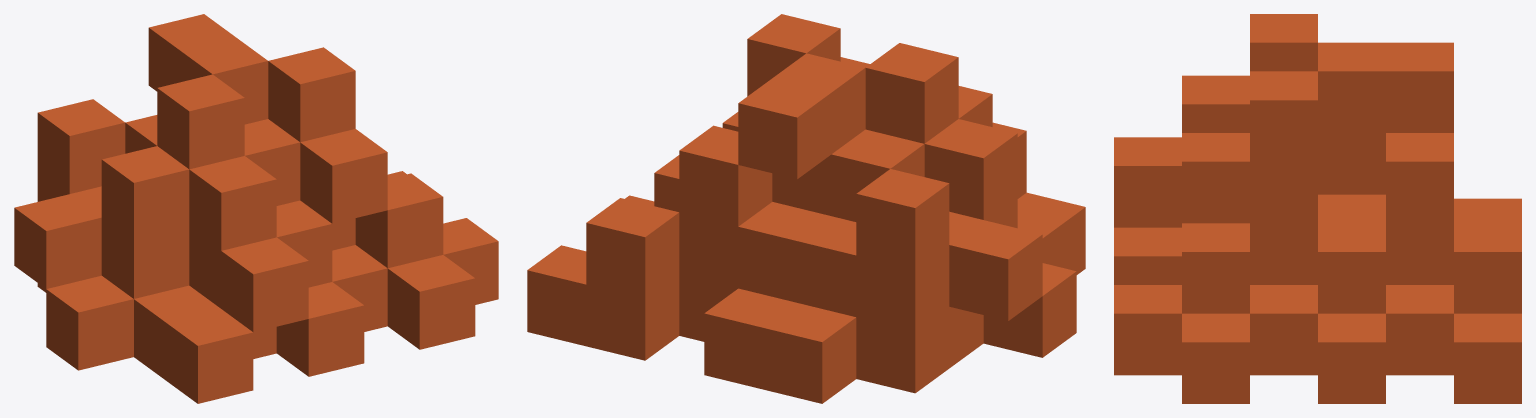
Rendered from copper_dust.dae.
The picture shows the model from 3 angles, left to right: view 1: azimuth 30°, elevation 25°; view 2: azimuth 150°, elevation 25°; view 3: azimuth 270°, elevation 25°; orthographic projection. The views are drawn at different scales.
Visible parts, largest first — view 1: copper_dust; view 2: copper_dust; view 3: copper_dust.
Part boxes in pixels (left/top/right/bottom): copper_dust: left=14, top=14, right=498, bottom=403; copper_dust: left=527, top=14, right=1085, bottom=403; copper_dust: left=1114, top=14, right=1521, bottom=403.
Size of the model in its own units: 0.7 by 0.4 by 0.6.
Materials: 1 (1 with a texture image).
